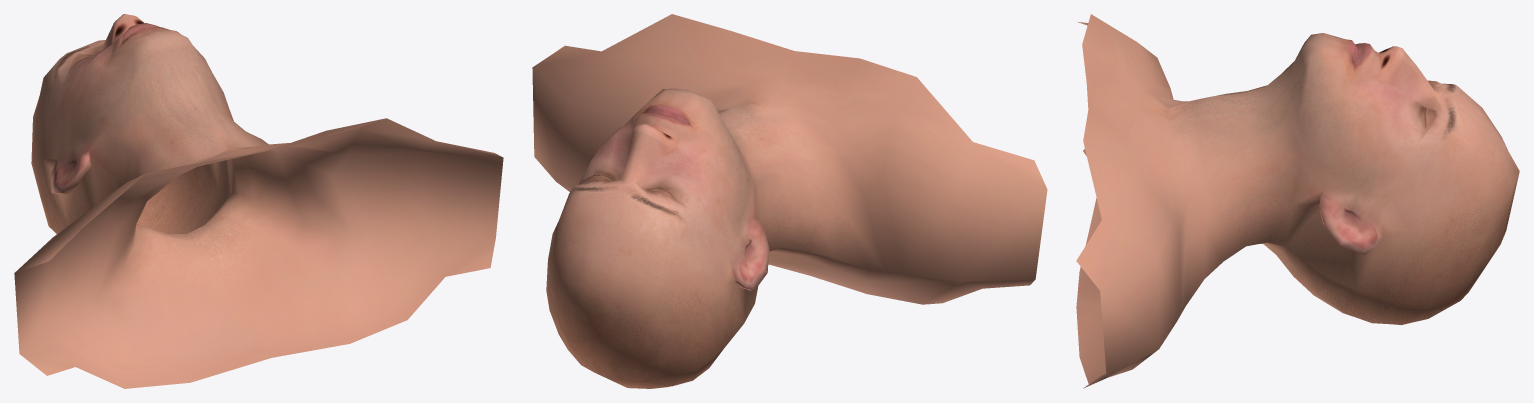
The model's file is Head_shoulders.FBX.
The picture shows the model from 3 angles, left to right: view 1: azimuth 30°, elevation 25°; view 2: azimuth 150°, elevation 25°; view 3: azimuth 270°, elevation 25°; orthographic projection. The views are drawn at different scales.
Visible parts, largest first — view 1: Head_shoulders; view 2: Head_shoulders; view 3: Head_shoulders.
Boxes of the visible parts, x1,y1,x2,y2 form: Head_shoulders: (14, 14, 503, 388); Head_shoulders: (532, 14, 1047, 388); Head_shoulders: (1076, 14, 1519, 388).
Size of the model in its own units: 1.24 by 0.6075 by 0.8847.
